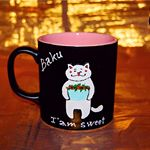cups: (5, 30, 121, 133)
